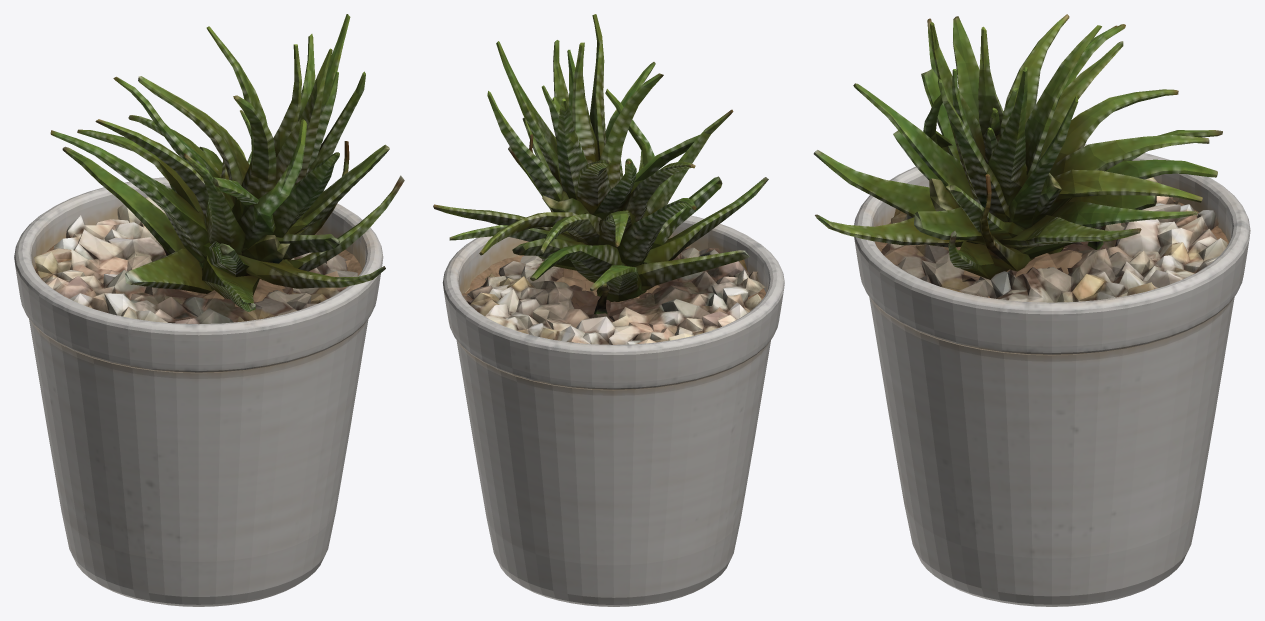
Rendered from haworthia.glb.
3 views of the same model, side by side, from view 1: azimuth 30°, elevation 25°; view 2: azimuth 150°, elevation 25°; view 3: azimuth 270°, elevation 25° (orthographic). The views are drawn at different scales.
Size of the model in its own units: 0.1679 by 0.2675 by 0.1848.
Materials: 1 (1 with a texture image).
